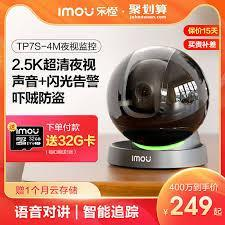maru: (112, 43, 212, 150)
